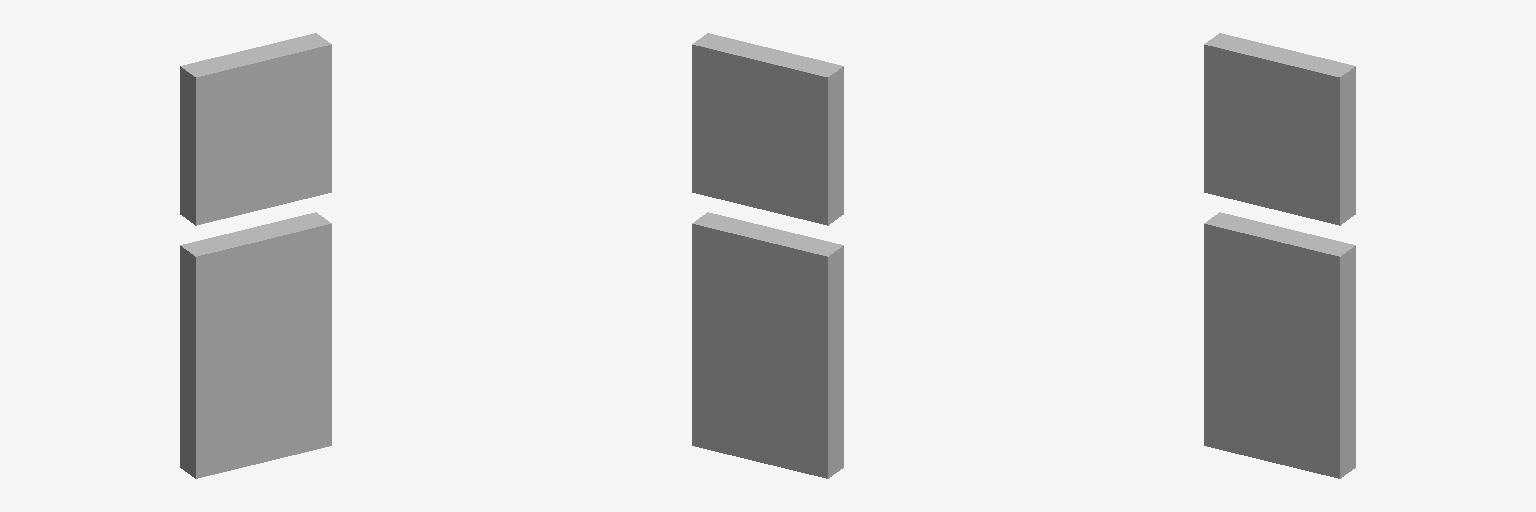
The model's file is Signs1.obj.
3 renders of one model, left to right at view 1: azimuth 30°, elevation 25°; view 2: azimuth 150°, elevation 25°; view 3: azimuth 330°, elevation 25°, orthographic.
Visible parts, largest first — view 1: Signs1; view 2: Signs1; view 3: Signs1.
Boxes of the visible parts, box(x1,y1,x2,y2) form: Signs1: box(180, 33, 331, 478); Signs1: box(692, 33, 843, 478); Signs1: box(1204, 33, 1355, 478).
Size of the model in its own units: 1.28 by 3.61 by 0.2566.